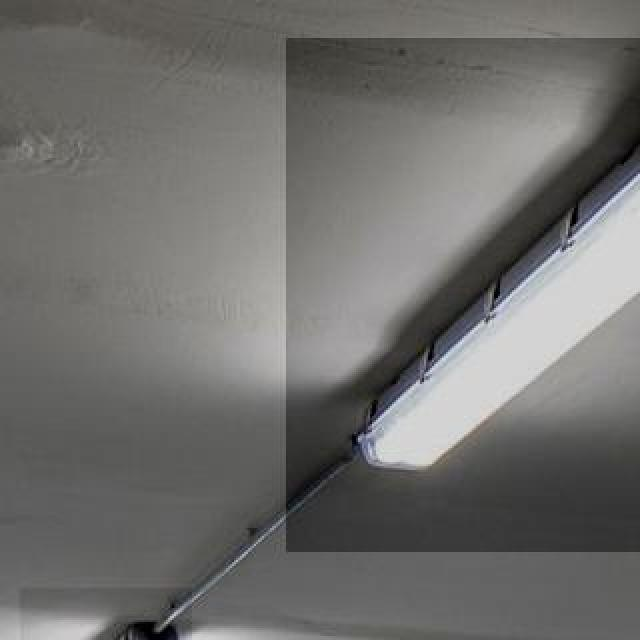fluorescent tube: (286, 104, 640, 510), (18, 608, 214, 640)
